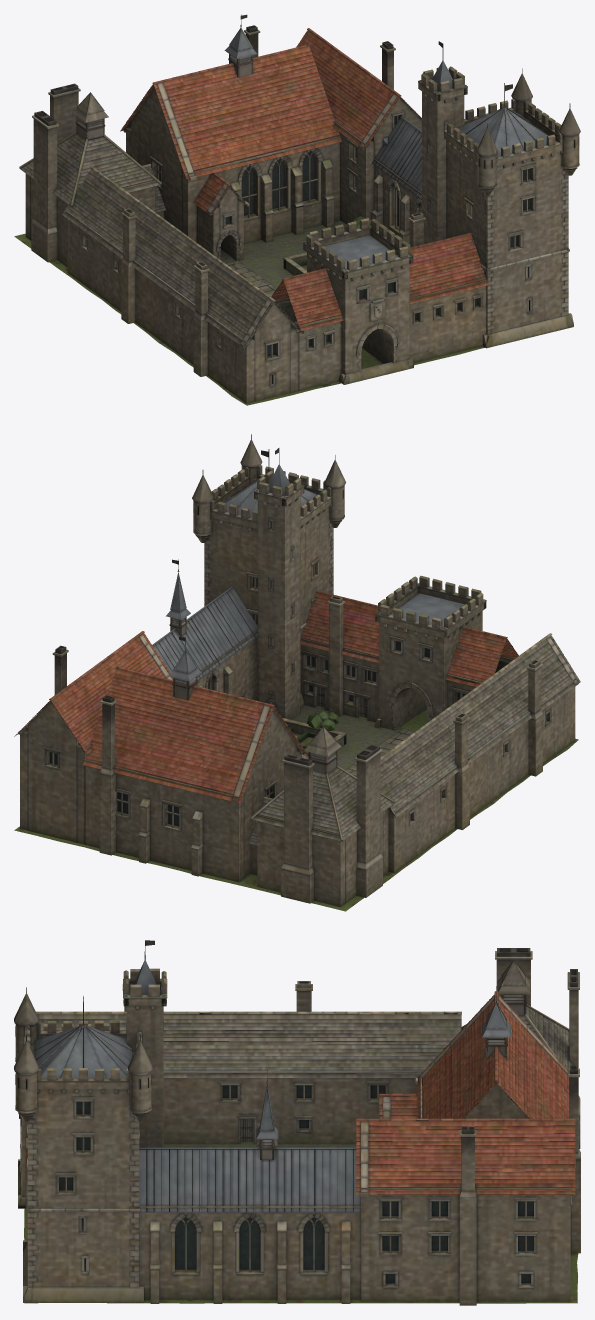
Rendered from palace.glb.
The picture shows the model from 3 angles, top to bottom: view 1: azimuth 30°, elevation 25°; view 2: azimuth 150°, elevation 25°; view 3: azimuth 270°, elevation 25°; orthographic projection. The views are drawn at different scales.
Parts seen in each view (by area): view 1: palace_LOD0; view 2: palace_LOD0; view 3: palace_LOD0.
Boxes of the visible parts, <box> form: palace_LOD0: <box>14,14,580,405</box>; palace_LOD0: <box>14,434,580,911</box>; palace_LOD0: <box>14,940,580,1305</box>.
Size of what is drawn, in the model's own units: 37.79 by 28.45 by 45.99.
Materials: 1 (1 with a texture image).
